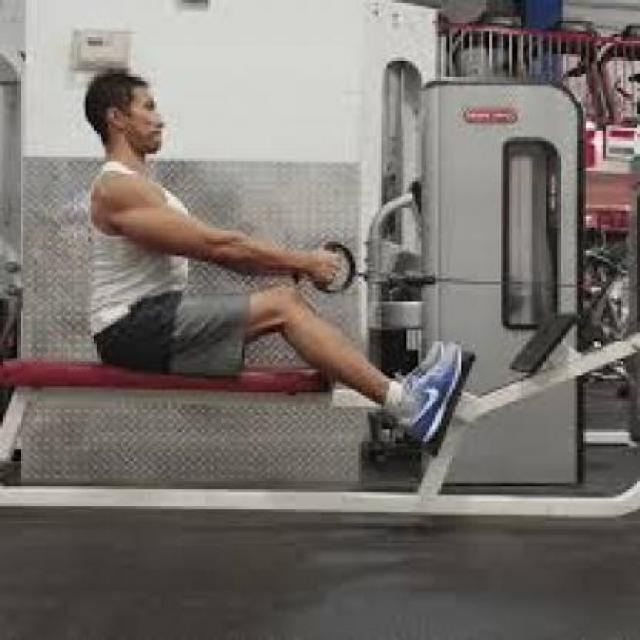Seated Cable Rows: (1, 6, 640, 515)
